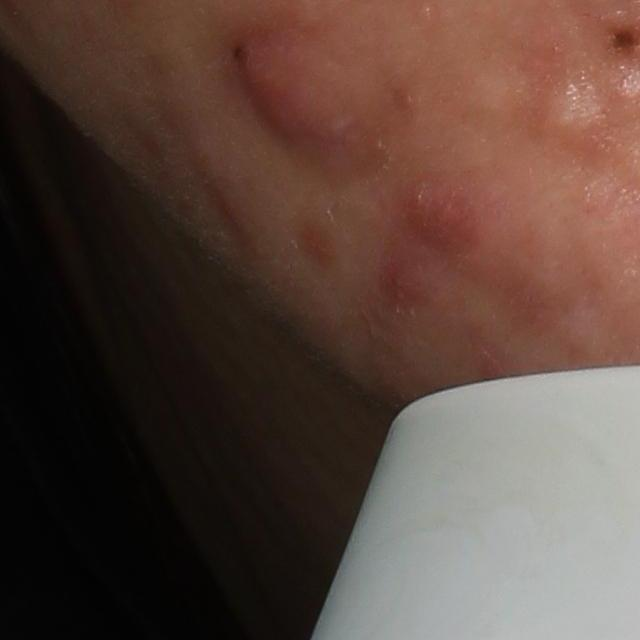nodule: (234, 25, 387, 174)
papule: (394, 180, 477, 258), (376, 257, 425, 308)
